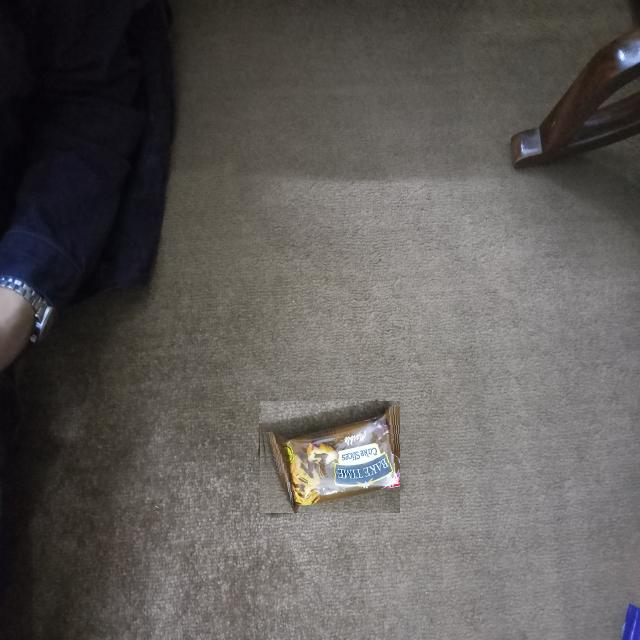Plastic: (259, 400, 400, 513)
